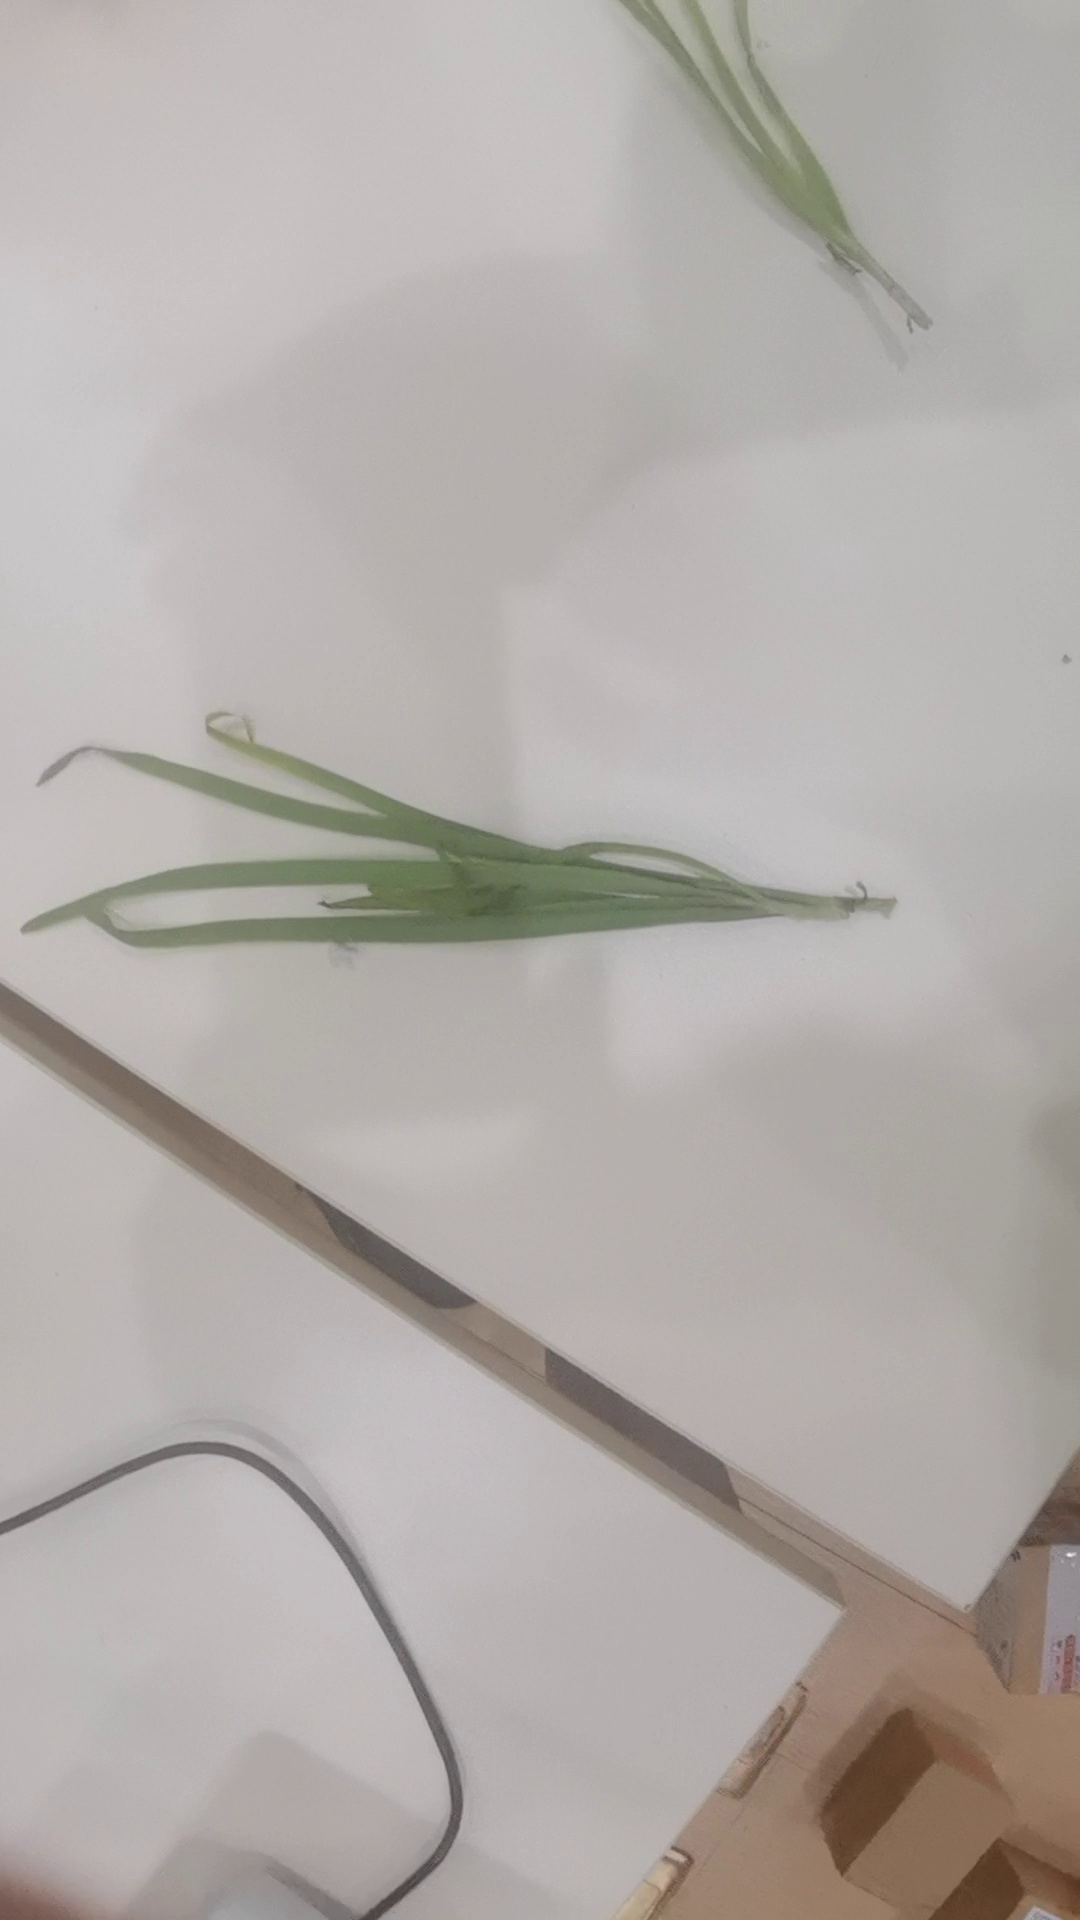chives: (1, 698, 906, 984), (567, 1, 951, 345)
